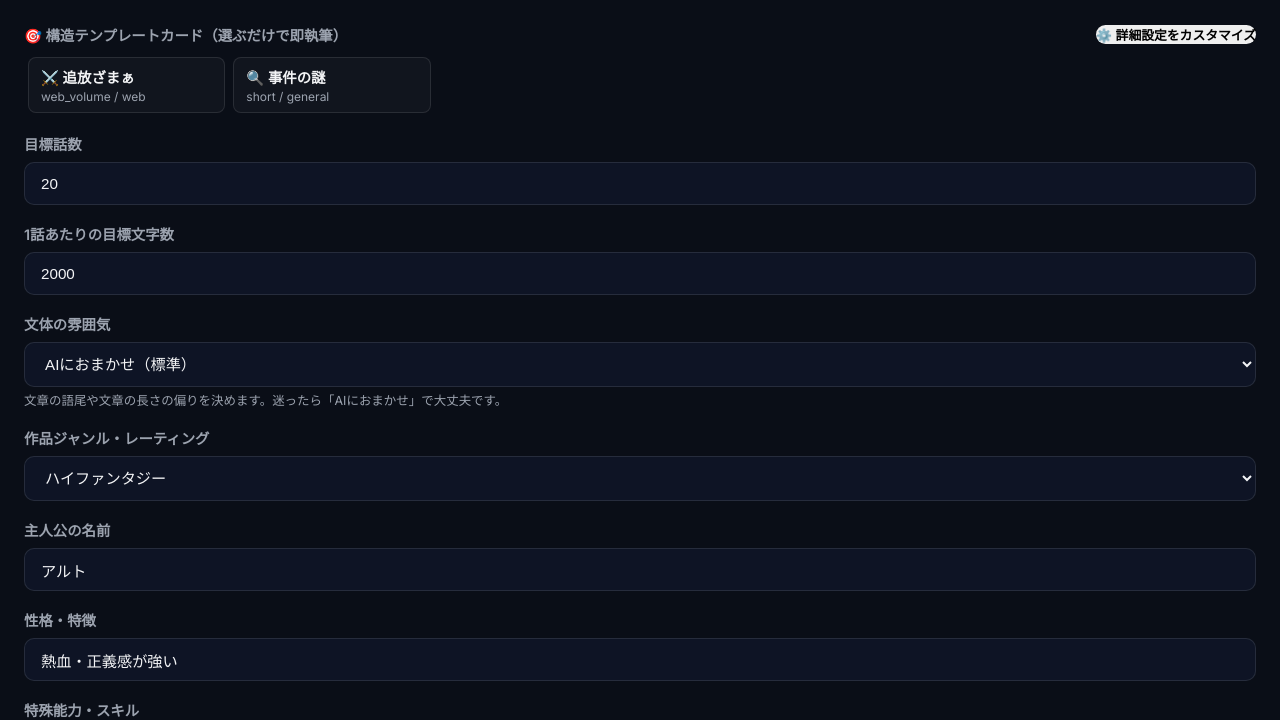
Test case: SimpleModePanel テンプレートカード › カードを選ぶと話数が自動入力される
Step 1. Click the text "⚔️ 追放ざまぁ" → (88, 78), box [41, 69, 135, 86]
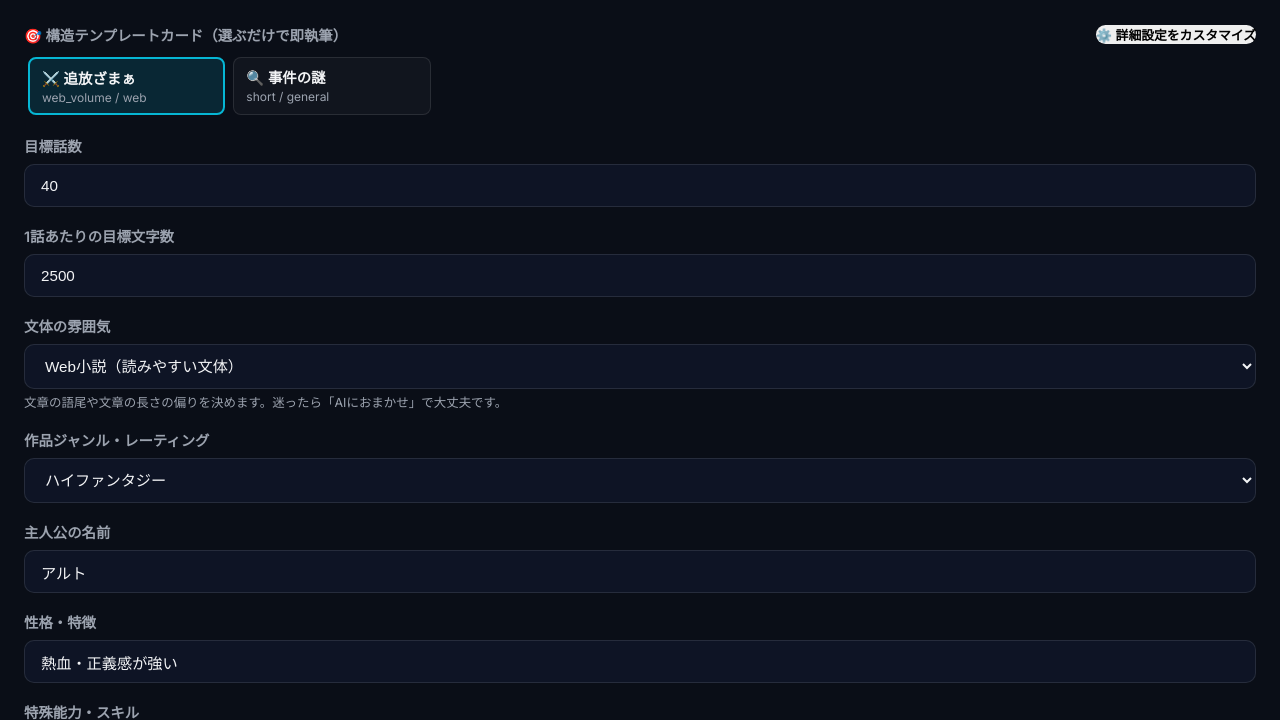
Check: the number field showing "40" is shown, box [24, 164, 1256, 207]
